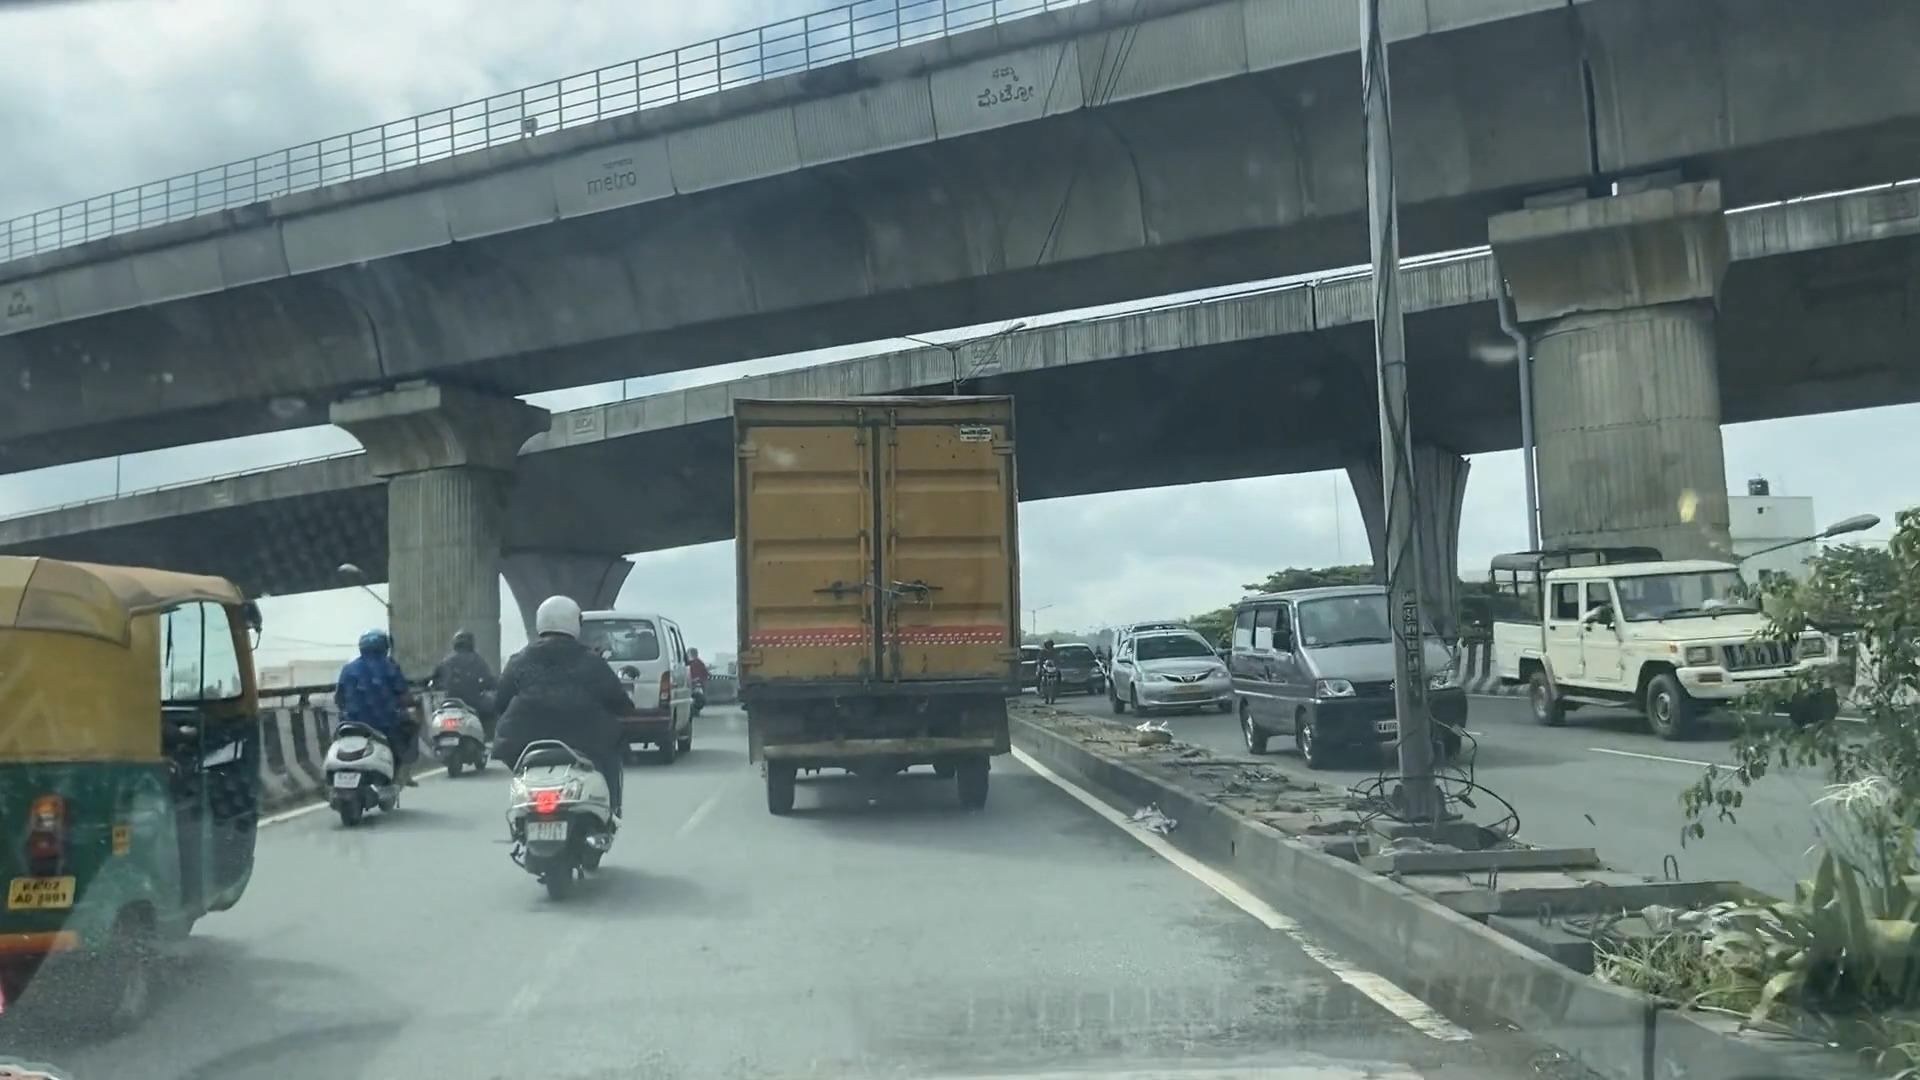HMV: (720, 400, 1015, 790)
LMV: (504, 600, 626, 876), (334, 626, 404, 833)
